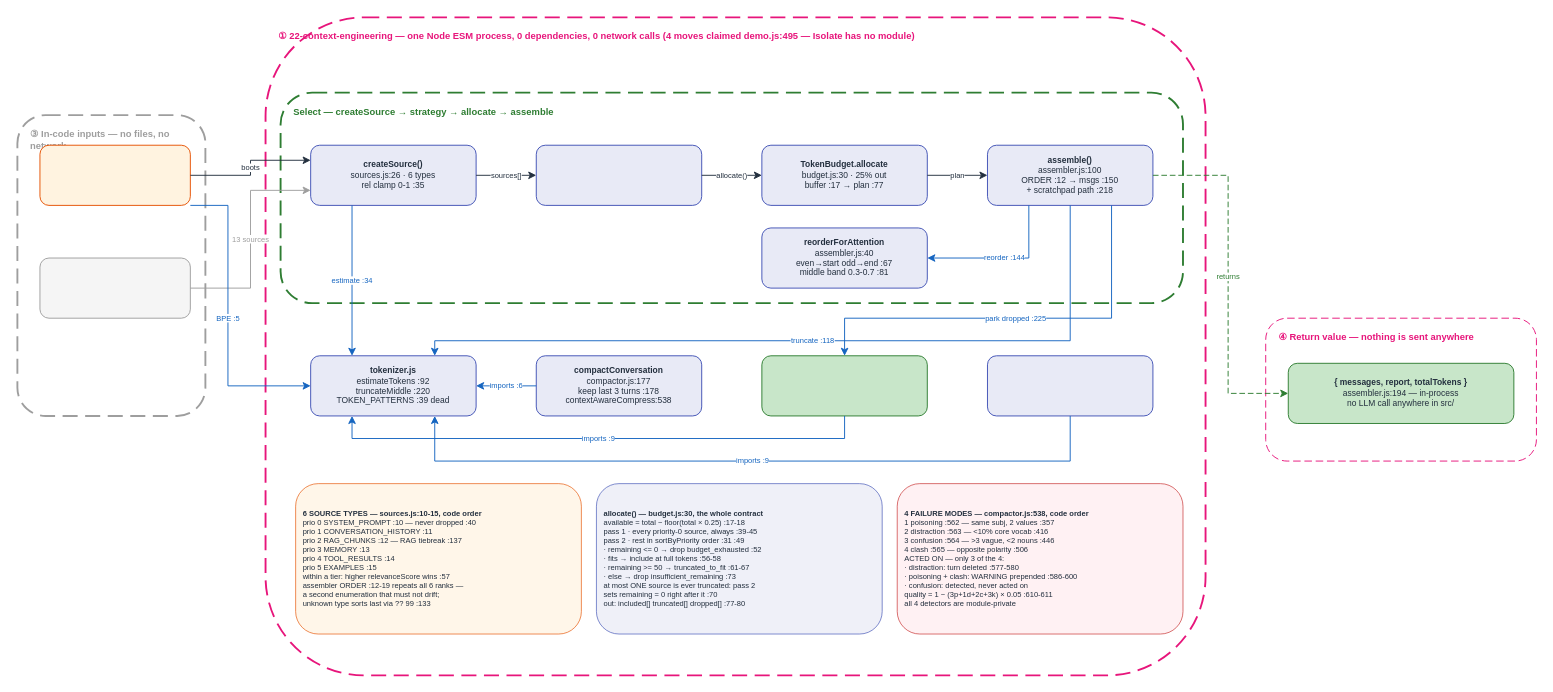
Some shapes in this 1553 by 692 pixel diagram are drawn without their labels. The shapes that lost their labels are listed below. From the top down, each one's centre as x and y in pixels, then its label:
At (114,174): "demo.js run() :492, :533 8 sections :497-504".
At (618,174): "strategies.js :111 greedy :9 relevance :19 balanced :44".
At (114,287): "createDemoSources() demo.js:48 — 13 srcs in-code, no files".
At (844,385): "Scratchpad scratchpad.js:27 Map in RAM :38, no file write :55 · index :234".
At (1070,385): "ContextCache cache.js:40 · TTL 300s PRICING :16 — no API simulateSession :228".
